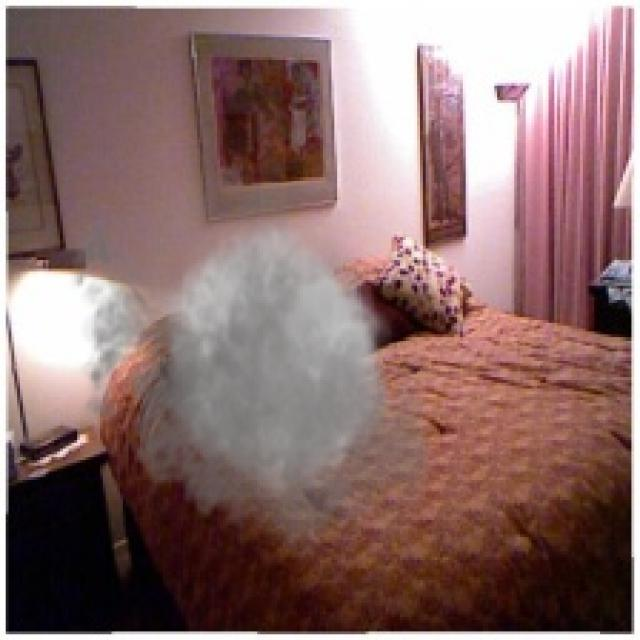smoke: (60, 152, 446, 572)
